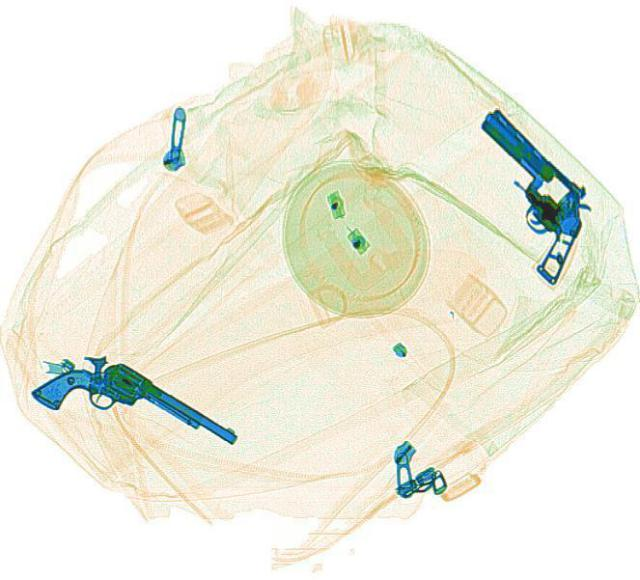Gun: (420, 106, 626, 285), (24, 334, 240, 493)
